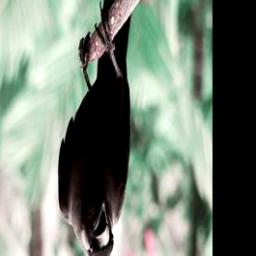Crow: (58, 0, 133, 256)
